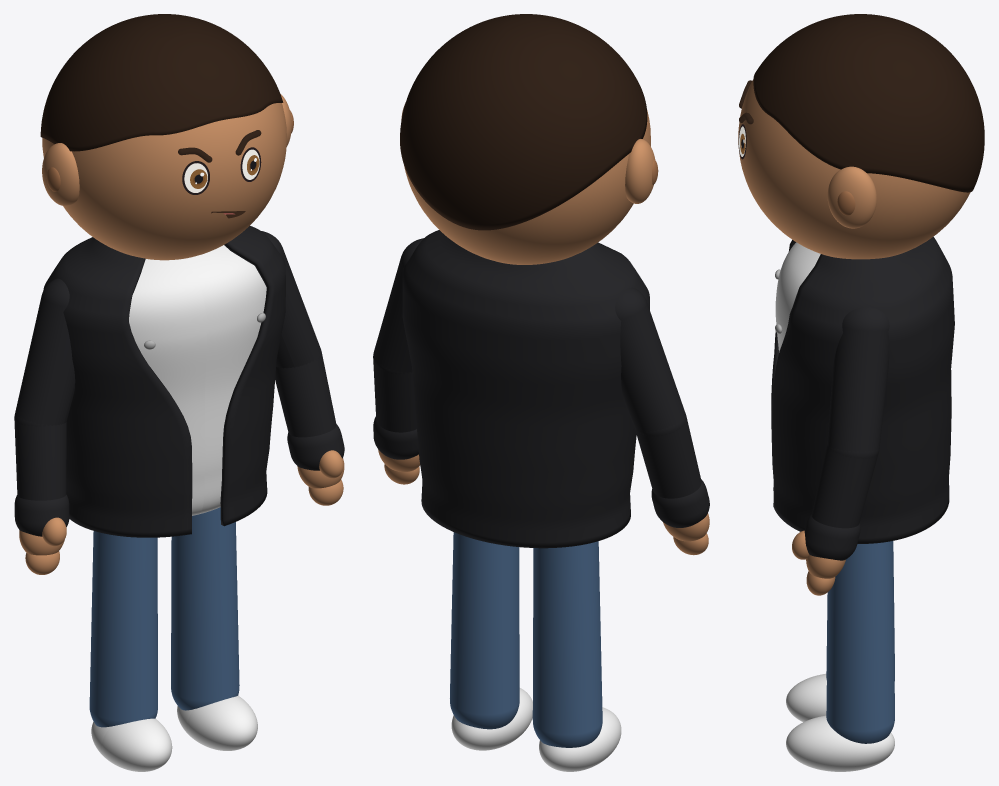
The model's file is pestkop.glb.
3 views of the same model, side by side, from view 1: azimuth 30°, elevation 25°; view 2: azimuth 150°, elevation 25°; view 3: azimuth 270°, elevation 25° (orthographic).
Visible parts, largest first — view 1: pestkop_jas, pestkop_haar, pestkop_hoofd, pestkop_romp, pestkop_been_R, pestkop_been_L, pestkop_bovenarm_R, pestkop_onderarm_R, pestkop_onderarm_L, pestkop_schoen_R, pestkop_schoen_L, pestkop_bovenarm_L (+8 smaller); view 2: pestkop_jas, pestkop_haar, pestkop_been_R, pestkop_been_L, pestkop_hoofd, pestkop_bovenarm_R, pestkop_onderarm_R, pestkop_bovenarm_L, pestkop_onderarm_L, pestkop_schoen_R, pestkop_schoen_L, pestkop_manchet_R (+3 smaller); view 3: pestkop_jas, pestkop_haar, pestkop_hoofd, pestkop_been_L, pestkop_bovenarm_L, pestkop_onderarm_L, pestkop_schoen_L, pestkop_oor_L, pestkop_romp, pestkop_manchet_L, pestkop_schoen_R, pestkop_hand_L (+1 smaller).
Boxes of the visible parts, bbox=[...] form: pestkop_jas: bbox=[43, 226, 285, 537]; pestkop_haar: bbox=[40, 14, 283, 151]; pestkop_hoofd: bbox=[42, 103, 286, 260]; pestkop_romp: bbox=[129, 245, 266, 515]; pestkop_been_R: bbox=[89, 531, 157, 727]; pestkop_been_L: bbox=[171, 507, 239, 710]; pestkop_bovenarm_R: bbox=[15, 278, 75, 426]; pestkop_onderarm_R: bbox=[14, 417, 66, 500]; pestkop_onderarm_L: bbox=[275, 353, 336, 437]; pestkop_schoen_R: bbox=[91, 718, 172, 771]; pestkop_schoen_L: bbox=[177, 695, 257, 750]; pestkop_bovenarm_L: bbox=[261, 231, 320, 368]; pestkop_jas: bbox=[402, 230, 649, 548]; pestkop_haar: bbox=[400, 14, 647, 230]; pestkop_been_R: bbox=[532, 541, 602, 747]; pestkop_been_L: bbox=[450, 532, 519, 729]; pestkop_hoofd: bbox=[404, 110, 650, 264]; pestkop_bovenarm_R: bbox=[615, 287, 685, 436]; pestkop_onderarm_R: bbox=[635, 417, 701, 498]; pestkop_bovenarm_L: bbox=[373, 238, 423, 373]; pestkop_onderarm_L: bbox=[373, 356, 416, 432]; pestkop_schoen_R: bbox=[539, 707, 621, 771]; pestkop_schoen_L: bbox=[451, 688, 532, 750]; pestkop_manchet_R: bbox=[651, 479, 709, 527]; pestkop_jas: bbox=[771, 236, 954, 543]; pestkop_haar: bbox=[753, 14, 984, 192]; pestkop_hoofd: bbox=[738, 80, 970, 259]; pestkop_been_L: bbox=[826, 541, 894, 743]; pestkop_bovenarm_L: bbox=[827, 307, 889, 458]; pestkop_onderarm_L: bbox=[811, 445, 878, 528]; pestkop_schoen_L: bbox=[786, 715, 894, 771]; pestkop_oor_L: bbox=[827, 166, 876, 228]; pestkop_romp: bbox=[775, 242, 820, 352]; pestkop_manchet_L: bbox=[804, 514, 860, 560]; pestkop_schoen_R: bbox=[786, 673, 826, 722]; pestkop_hand_L: bbox=[806, 554, 845, 578].
Size of the model in its own units: 0.8484 by 1.81 by 0.5613.
